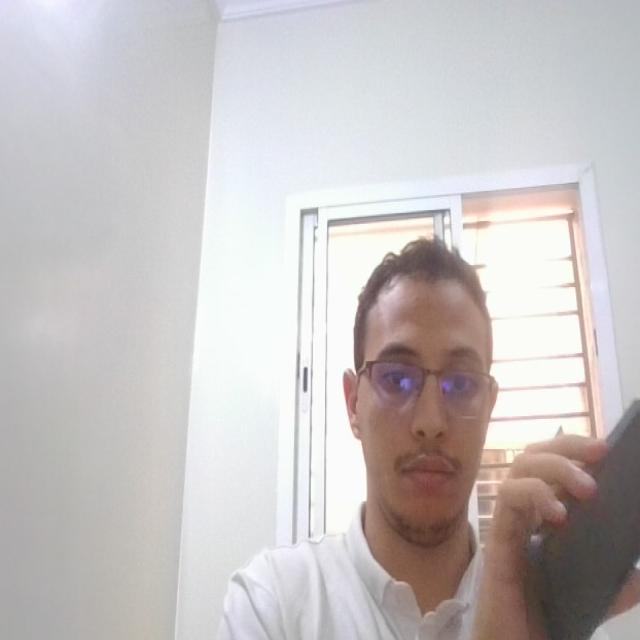phone: (518, 384, 640, 640)
